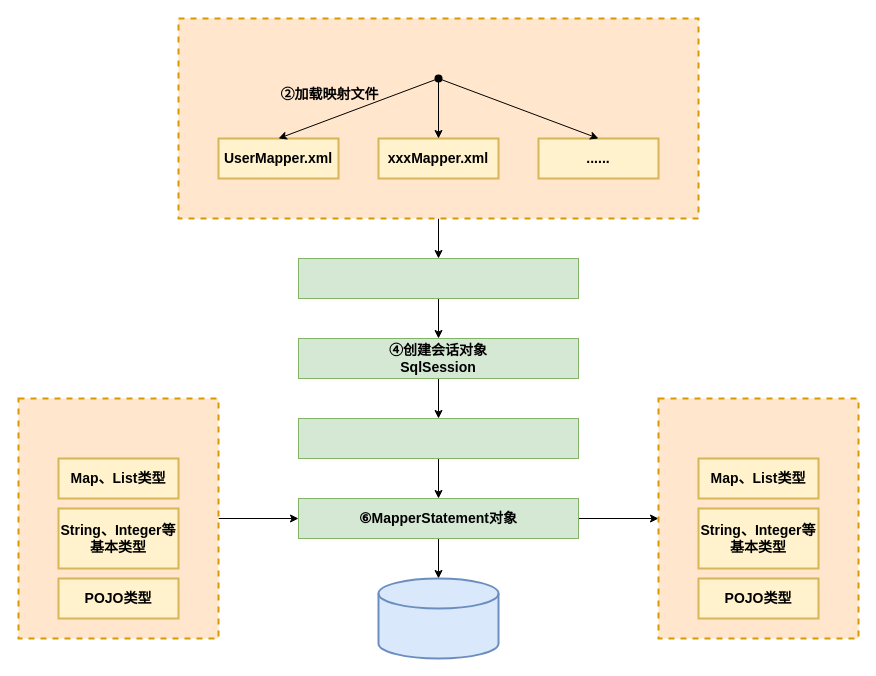
Some shapes in this 876 by 676 pixel diagram are drawn without their labels. Here are the shapes that lost their labels. From the top down, the box of each, then its label:
(177, 17, 699, 219): ①读取Mybatis配置文件 mybatis-config.xml
(298, 258, 578, 298): ③构造会话工厂 SqlSessionFactory
(298, 418, 578, 458): ⑤Executer执行器
(17, 397, 219, 639): ⑦输入参数映射
(657, 397, 859, 639): ⑧输出结果映射
(377, 577, 499, 659): 数据库
